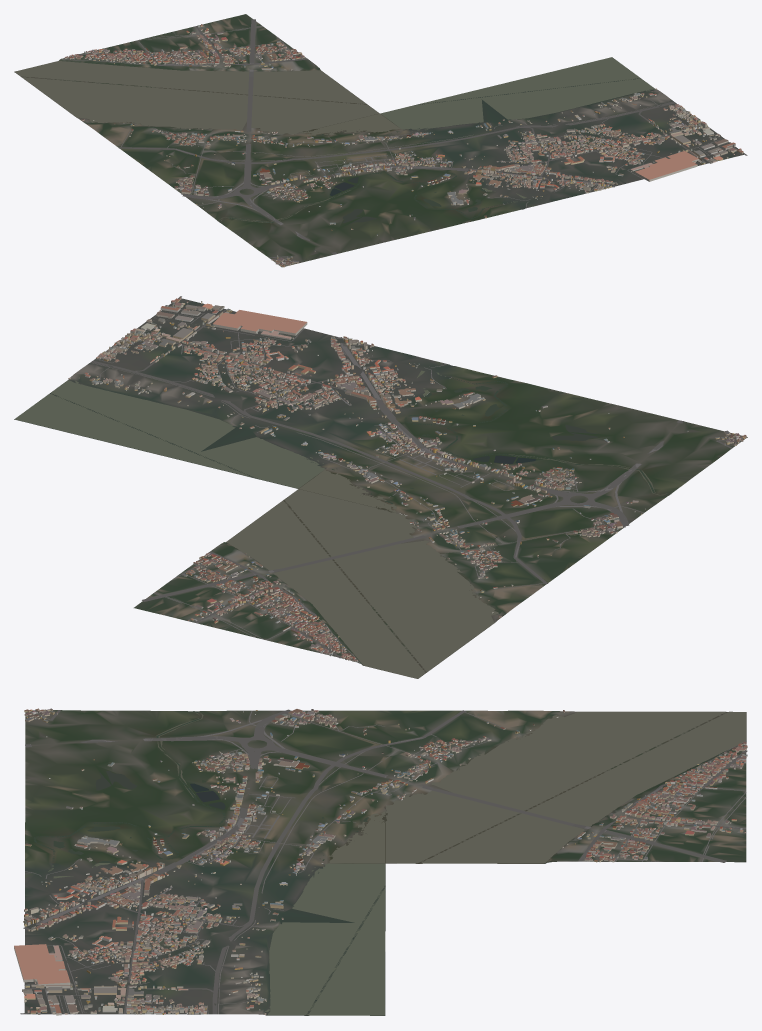
3 renders of one model, top to bottom at view 1: azimuth 30°, elevation 25°; view 2: azimuth 150°, elevation 25°; view 3: azimuth 270°, elevation 25°, orthographic. The views are drawn at different scales.
Visible parts, largest first — view 1: ground, water, buildings, roads; view 2: ground, water, buildings, roads; view 3: ground, water, buildings, roads.
Boxes of the visible parts, x1,y1,x2,y2 form: ground: [14, 14, 744, 267]; water: [14, 57, 654, 224]; buildings: [64, 24, 743, 267]; roads: [61, 19, 747, 266]; ground: [14, 298, 747, 678]; water: [15, 370, 670, 678]; buildings: [68, 297, 746, 661]; roads: [90, 296, 746, 662]; ground: [24, 710, 746, 1015]; water: [33, 711, 746, 1015]; buildings: [14, 708, 747, 1015]; roads: [20, 709, 747, 1014].
Bounding box in the file's own units: 2818 × 33.79 × 2854.
